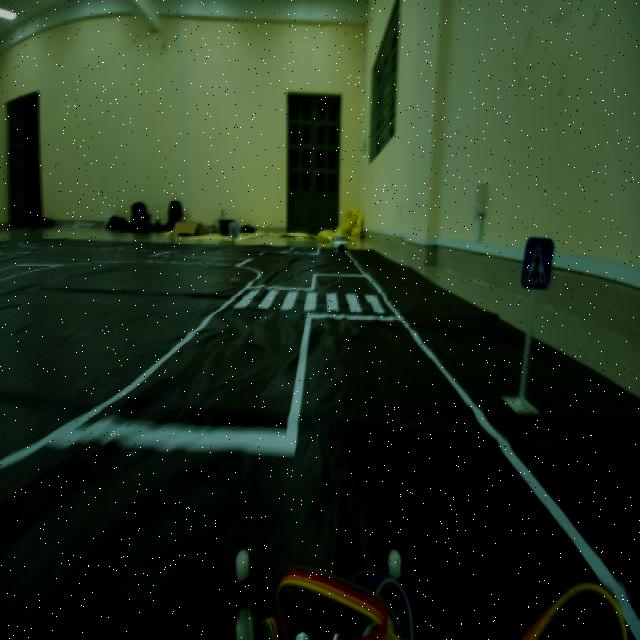crosswalk: (512, 224, 555, 288)
